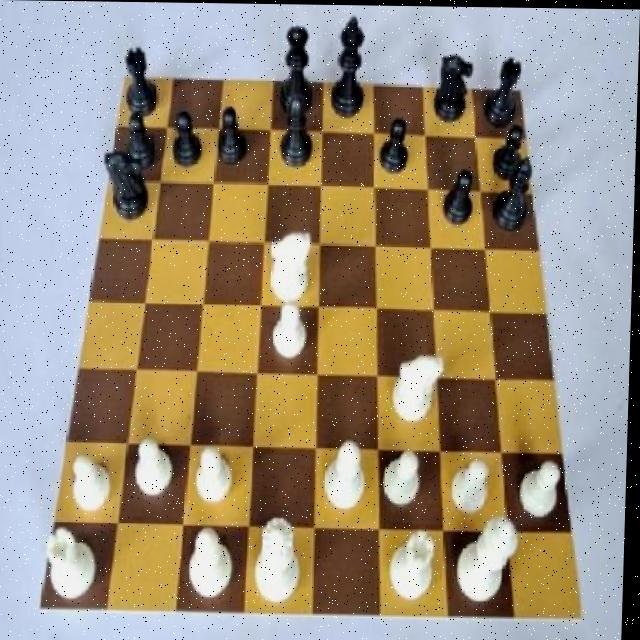bishop: (494, 154, 540, 232), (277, 90, 318, 174)
black-bishop: (325, 14, 370, 126)
black-king: (99, 143, 152, 224), (432, 44, 475, 128)
black-knight: (373, 107, 419, 184), (488, 121, 531, 189), (170, 108, 209, 175), (216, 103, 250, 175), (443, 165, 477, 227), (125, 108, 158, 171)
black-pawn: (276, 17, 316, 125)
black-queen: (480, 55, 527, 132), (123, 34, 166, 117)
black-rook: (187, 526, 237, 605), (324, 436, 372, 512)
white-bishop: (457, 510, 522, 607)
white-king: (263, 224, 319, 308), (390, 351, 447, 427)
white-knight: (191, 442, 242, 512), (132, 432, 178, 507), (449, 453, 497, 523), (382, 448, 430, 518), (518, 453, 565, 522), (71, 452, 117, 515), (270, 299, 312, 360)
white-pawn: (254, 514, 308, 608)
white-queen: (46, 524, 102, 609), (388, 528, 443, 602)
